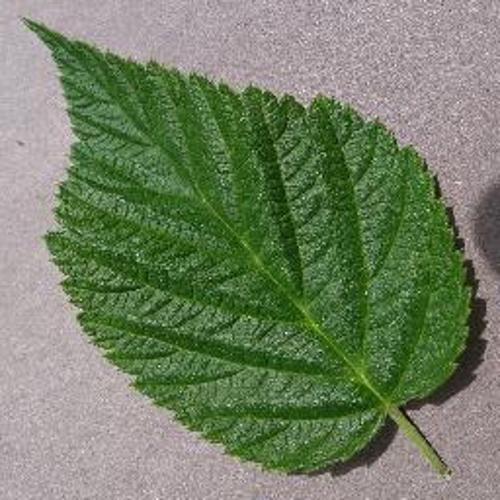Raspberry: (22, 18, 471, 474)
